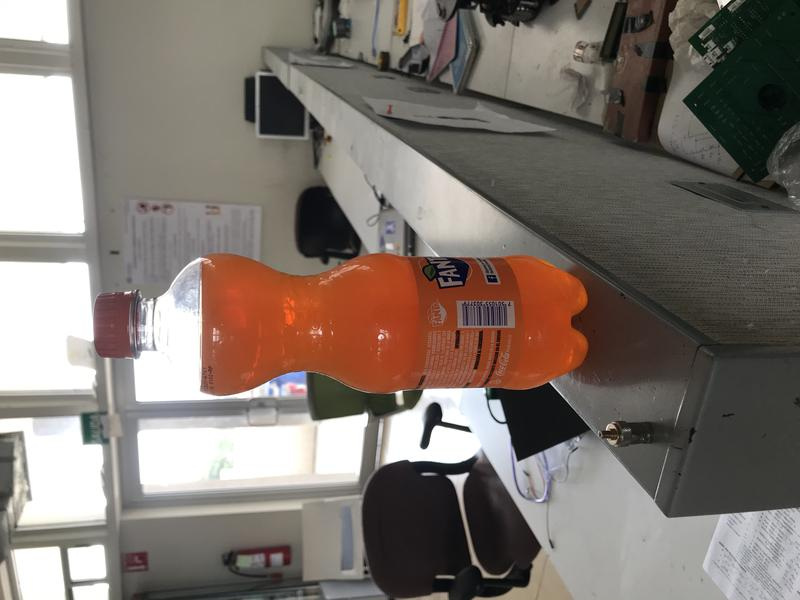fanta: (93, 253, 588, 394)
